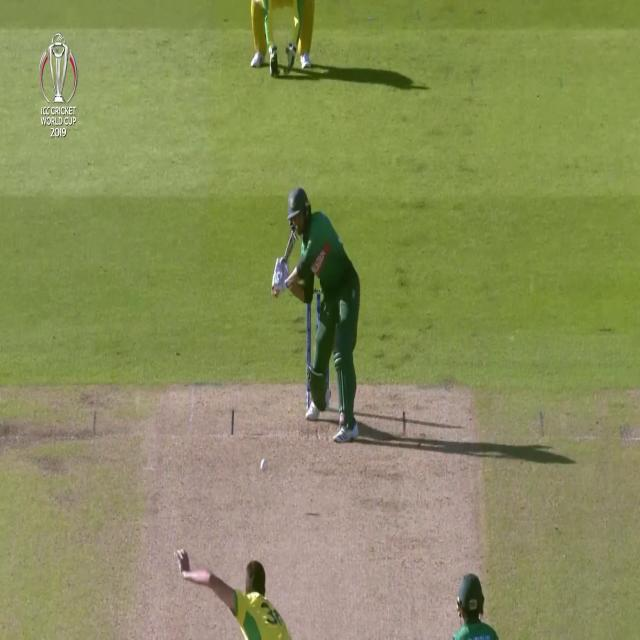ball: (258, 455, 270, 477)
